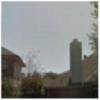chimneys: (70, 38, 84, 84)
